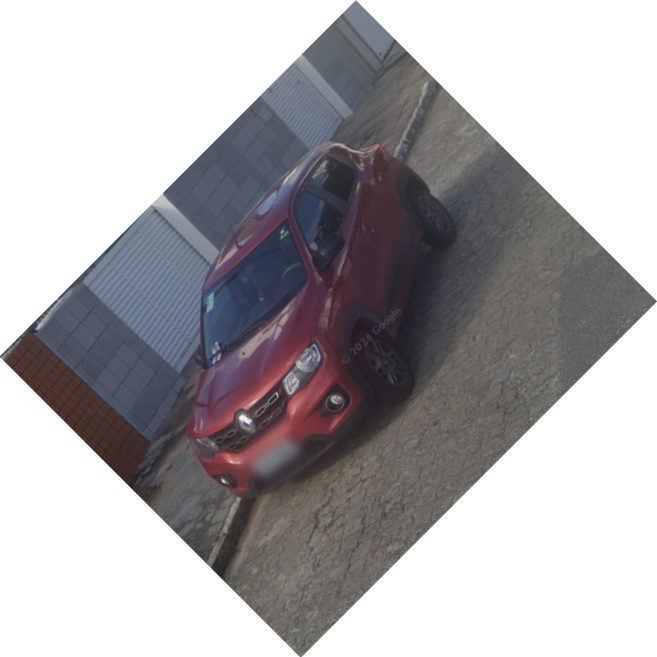car: (187, 140, 461, 502)
